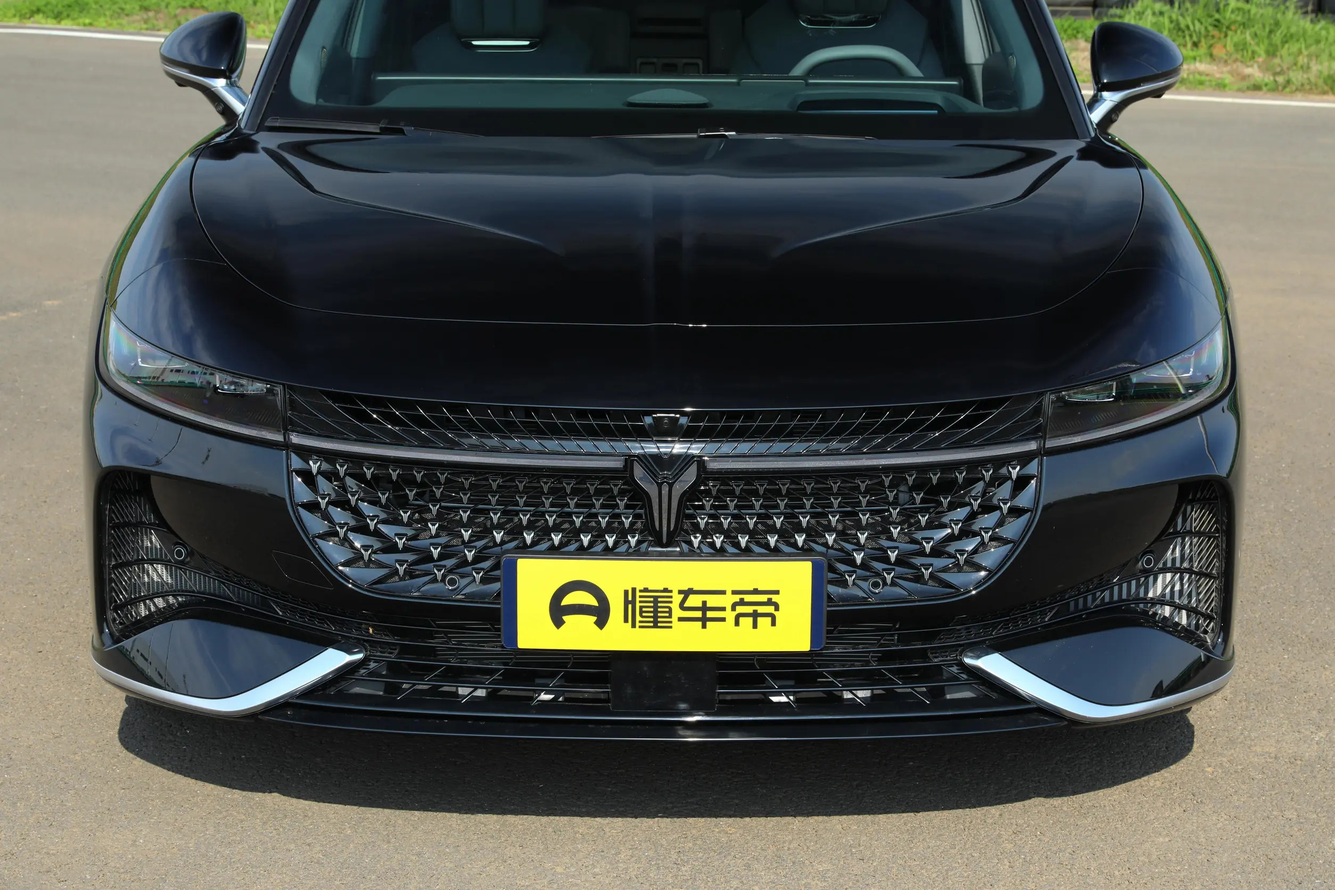VOYAH: (633, 462, 697, 543)
